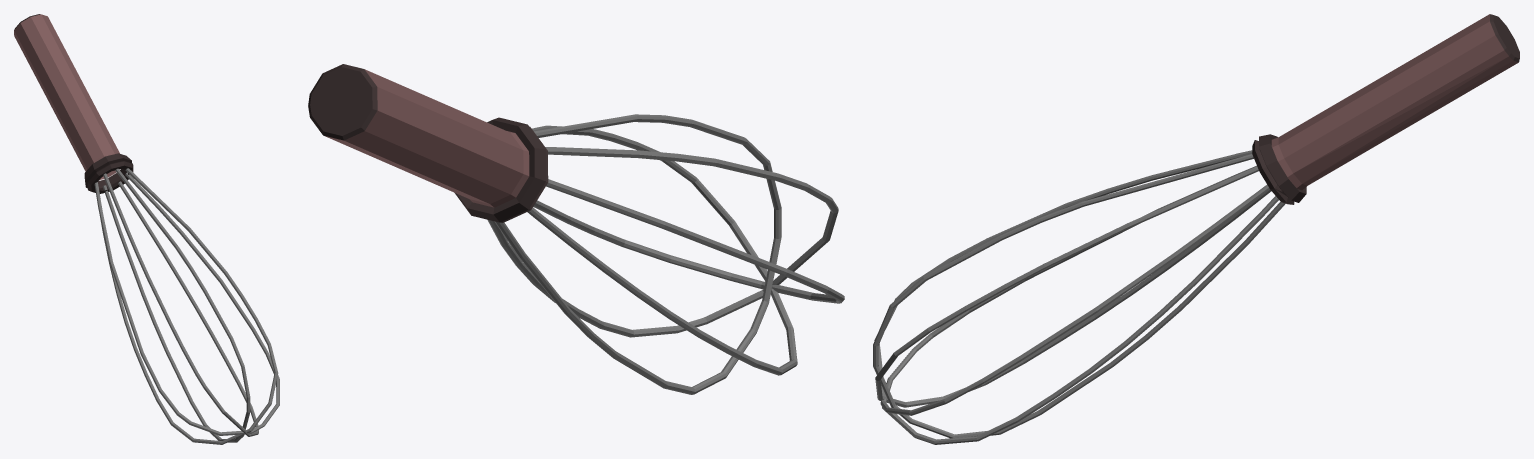
File: whisk.fbx
3 views of the same model, side by side, from view 1: azimuth 30°, elevation 25°; view 2: azimuth 150°, elevation 25°; view 3: azimuth 270°, elevation 25° (orthographic). The views are drawn at different scales.
Visible parts, largest first — view 1: polySurface29; view 2: polySurface29; view 3: polySurface29.
Boxes of the visible parts, <box> form: polySurface29: <box>14,14,279,444</box>; polySurface29: <box>308,64,844,394</box>; polySurface29: <box>873,14,1519,444</box>.
Size of the model in its own units: 13.55 by 32.85 by 45.64.
